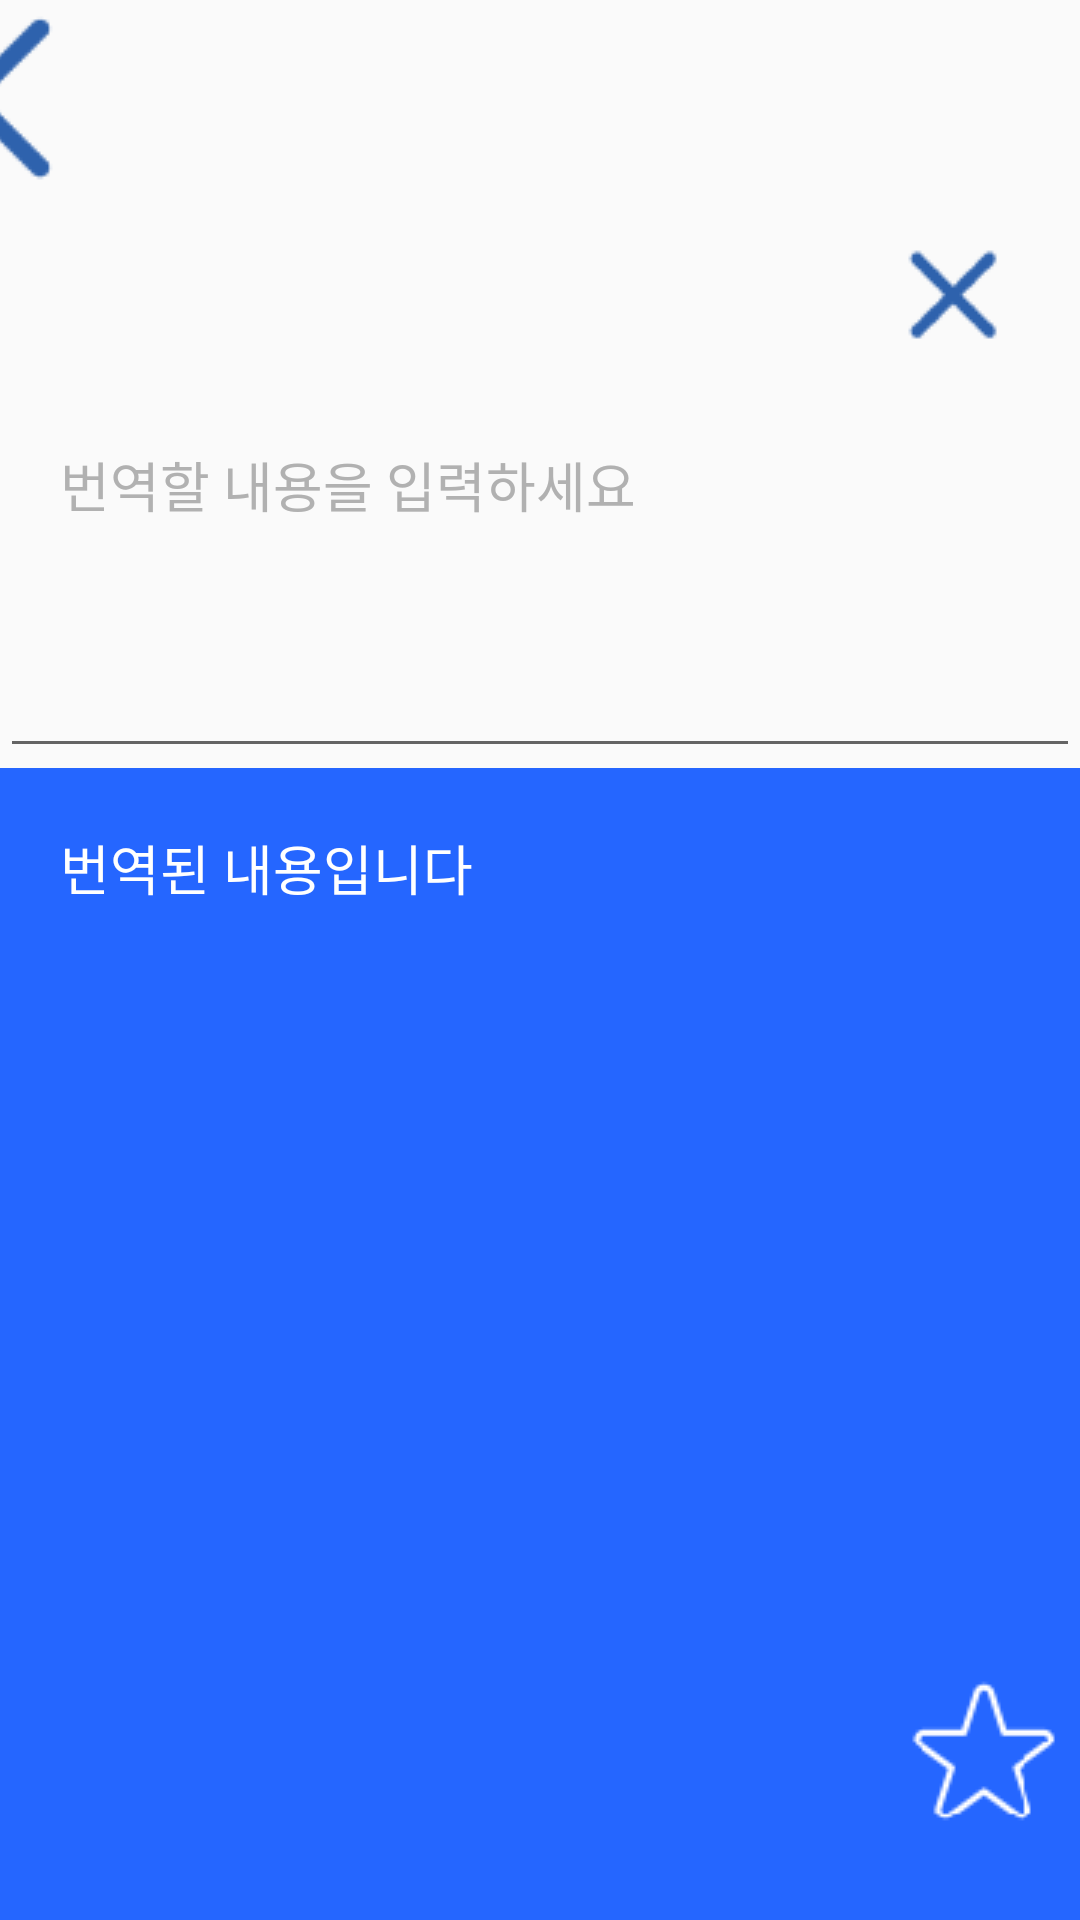

Icon click points for this 1080 × 1920 phone screenshot, format [x,y]:
whitestar off: [983,1751]
